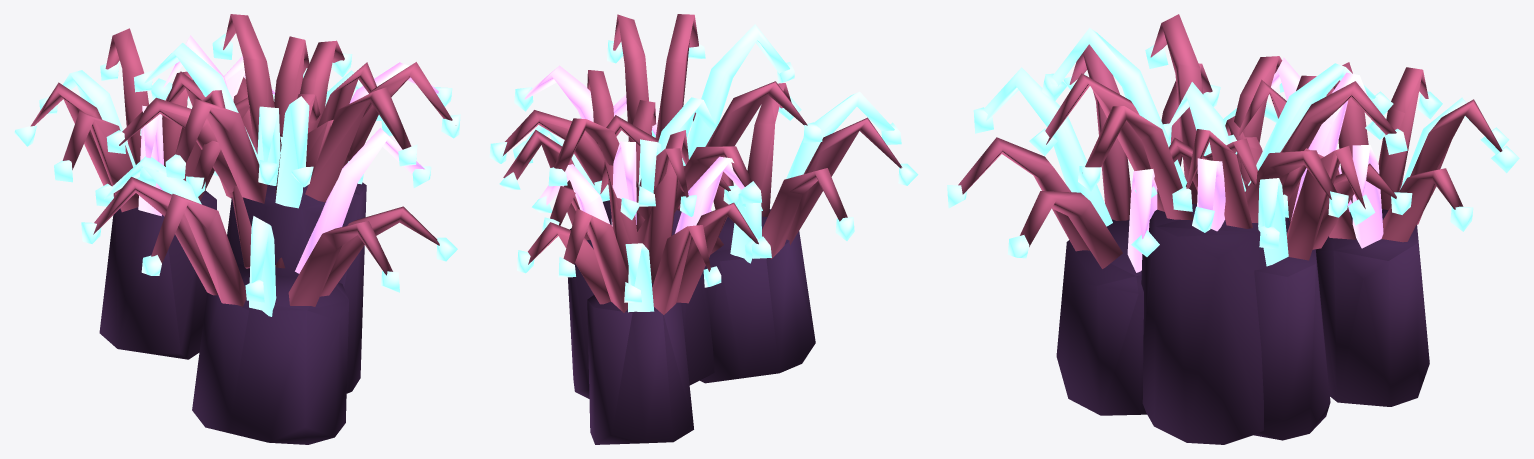
Rendered from shore_glow_anemone_lod1.glb.
3 renders of one model, left to right at view 1: azimuth 30°, elevation 25°; view 2: azimuth 150°, elevation 25°; view 3: azimuth 270°, elevation 25°, orthographic. The views are drawn at different scales.
Parts seen in each view (by area): view 1: shore_glow_anemone.001; view 2: shore_glow_anemone.001; view 3: shore_glow_anemone.001.
Part boxes in pixels (x1=…): shore_glow_anemone.001: x1=14, y1=14, x2=460, y2=444; shore_glow_anemone.001: x1=489, y1=14, x2=918, y2=444; shore_glow_anemone.001: x1=947, y1=14, x2=1519, y2=444.
Bounding box in the file's own units: 1.56 × 1.39 × 1.99.
